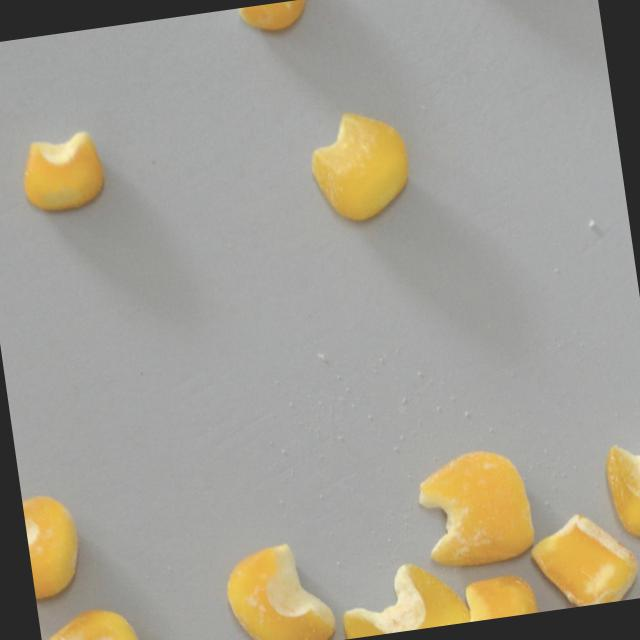dañado: (38, 595, 146, 640)
no_canjicado: (445, 570, 541, 625)
no_desgerminado: (335, 551, 474, 640), (15, 125, 112, 219)
pelicula: (411, 437, 546, 577), (302, 106, 417, 232), (522, 497, 640, 613), (219, 532, 343, 640), (21, 487, 92, 603), (600, 431, 640, 545)
